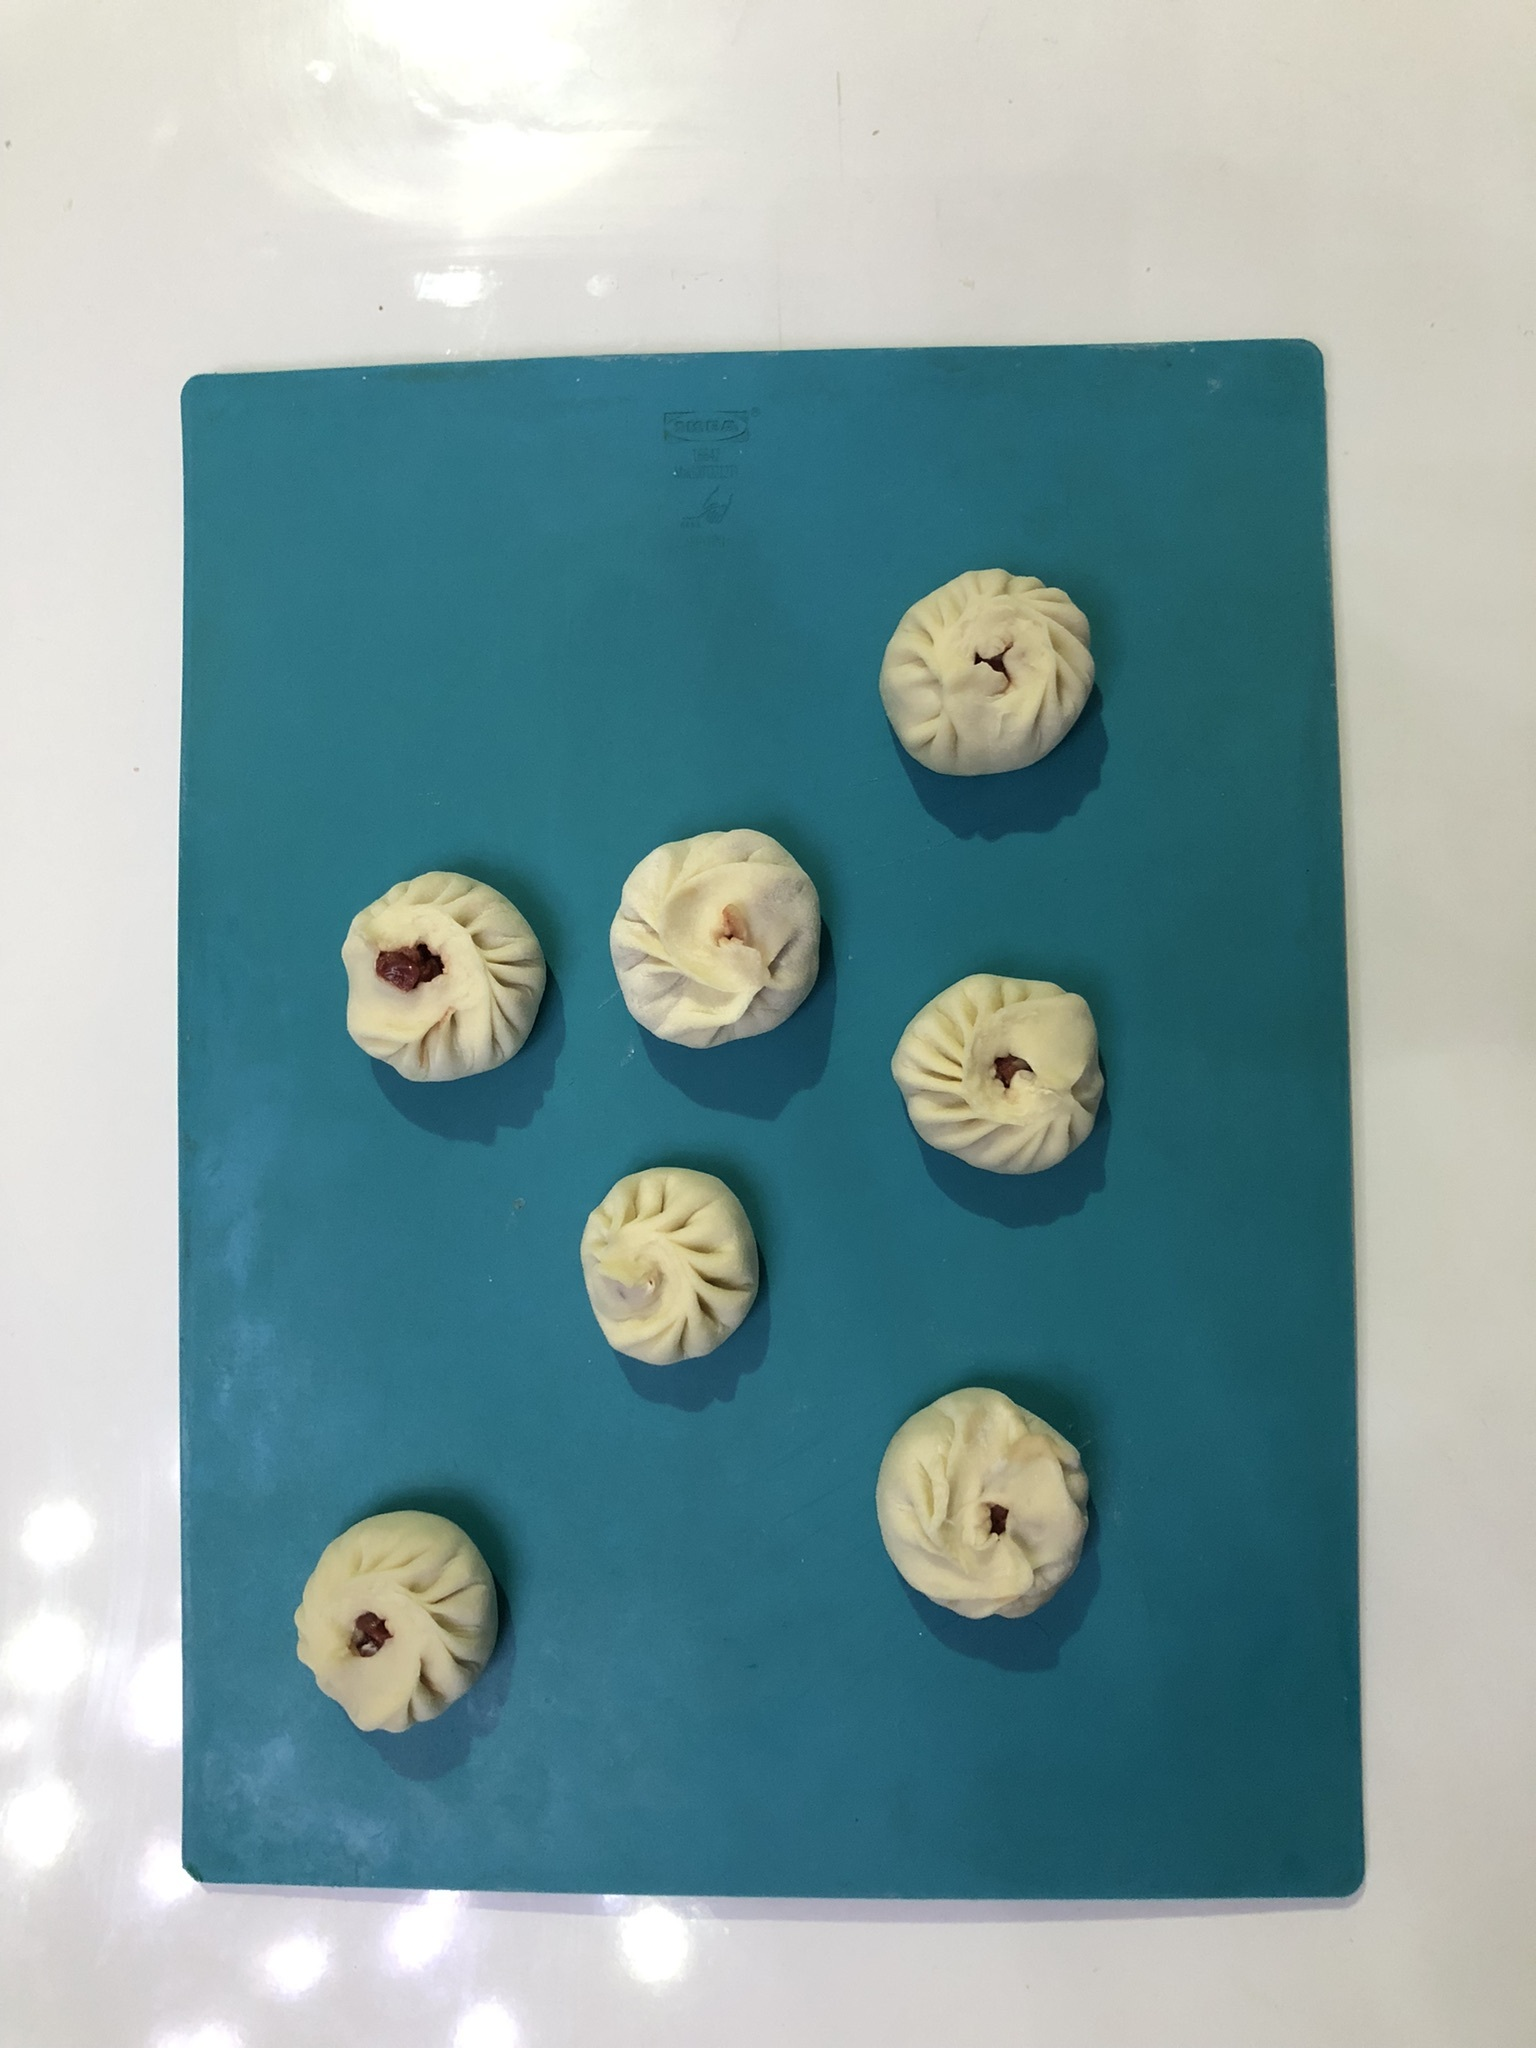buuz: (858, 1367, 1108, 1650), (286, 1488, 510, 1746), (326, 860, 565, 1093), (599, 819, 833, 1056), (871, 556, 1108, 787), (883, 961, 1120, 1184), (566, 1148, 786, 1376)
